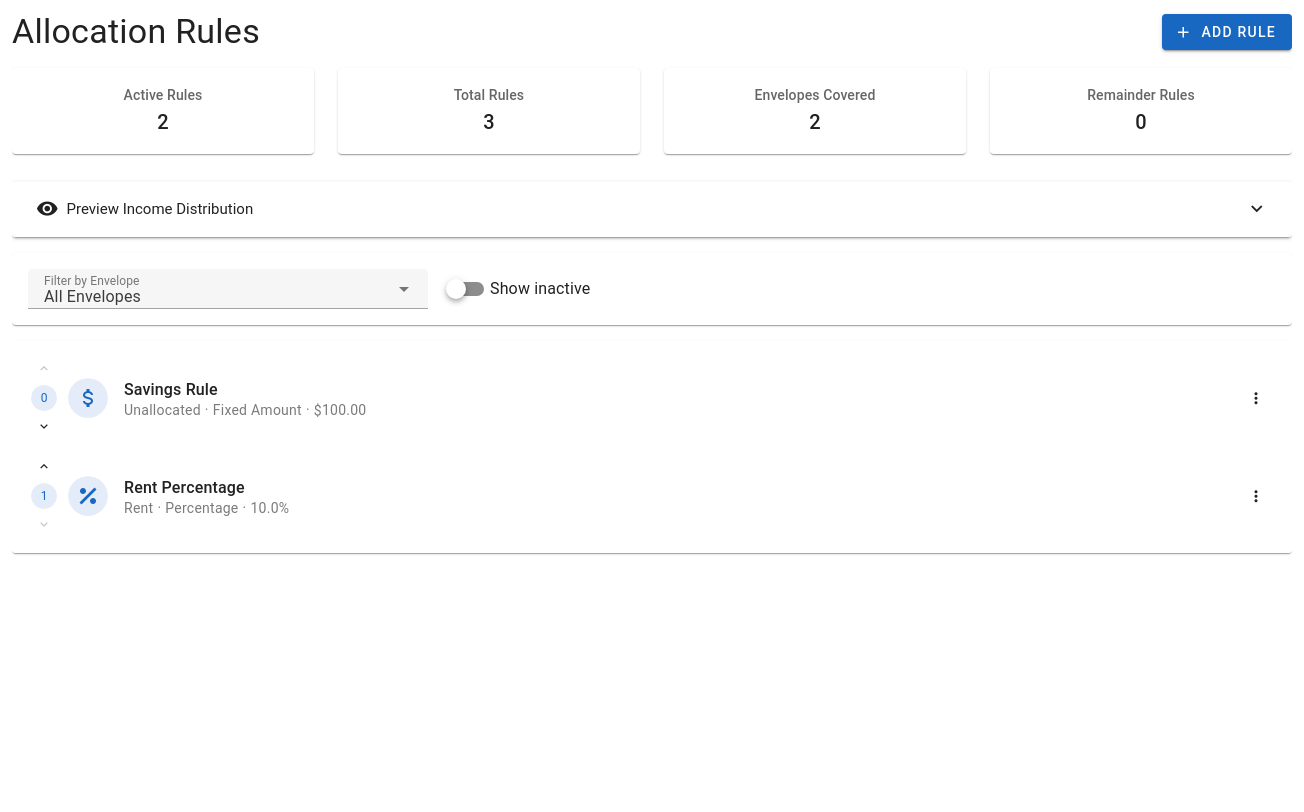
it: AllocationRulesView › shows inactive chip on inactive rules when show inactive is enabled
The width and height of the screenshot is (1304, 812).
Note: Toggle "Show inactive" switch
Click the checkbox labelled "Show inactive".
click(540, 288)  # box [490, 279, 590, 298]
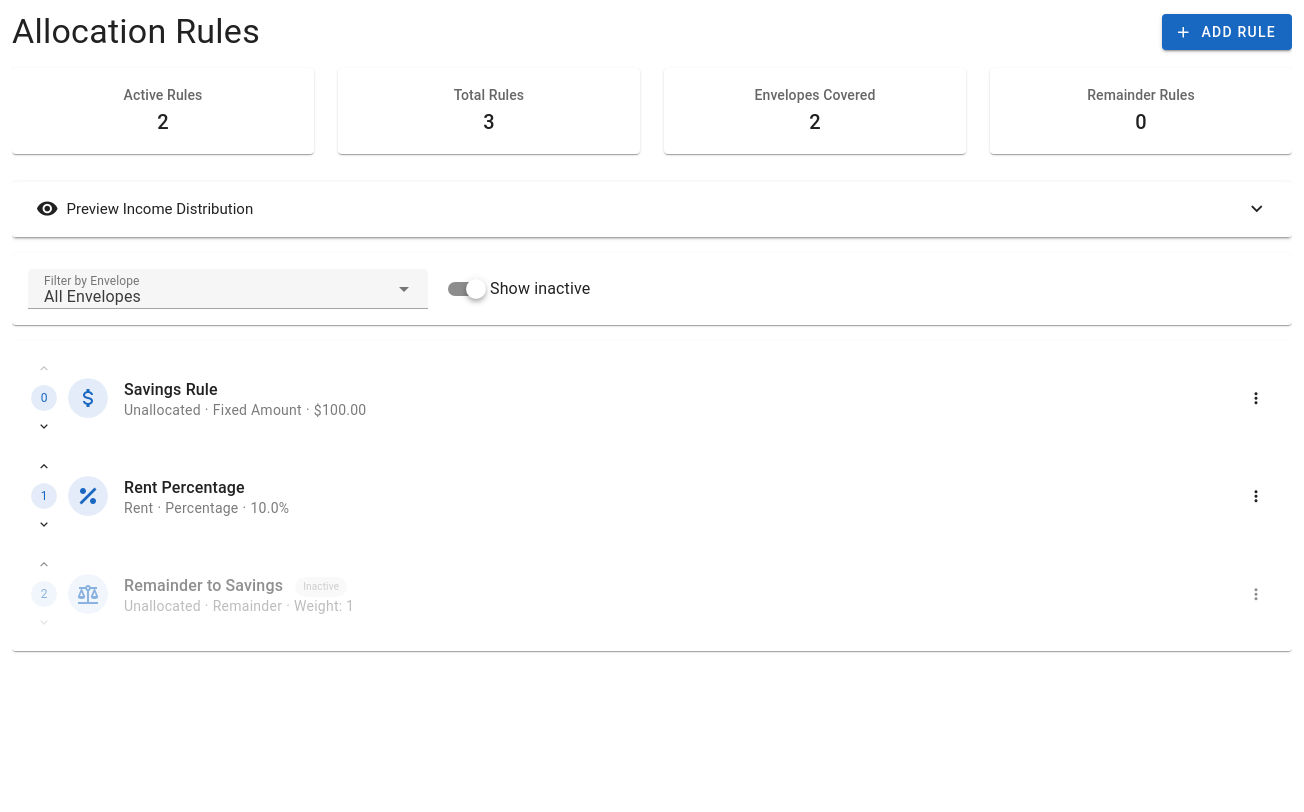
Now the text "Remainder to Savings" is shown, box [124, 576, 287, 595]
